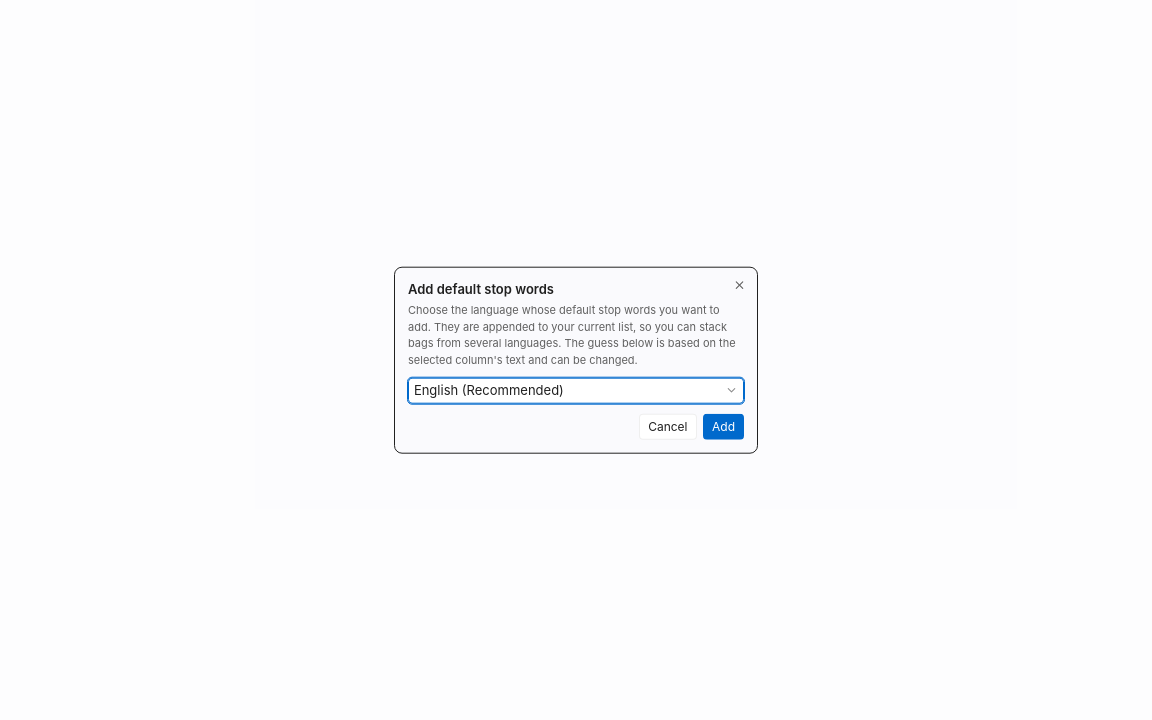
Test: FillDefaultStopWordsDialog › keeps the dialog open and exposes a retryable load failure
This screenshot has width=1152, height=720.
Click the button "Add" at (724, 426), box [703,413,744,439]
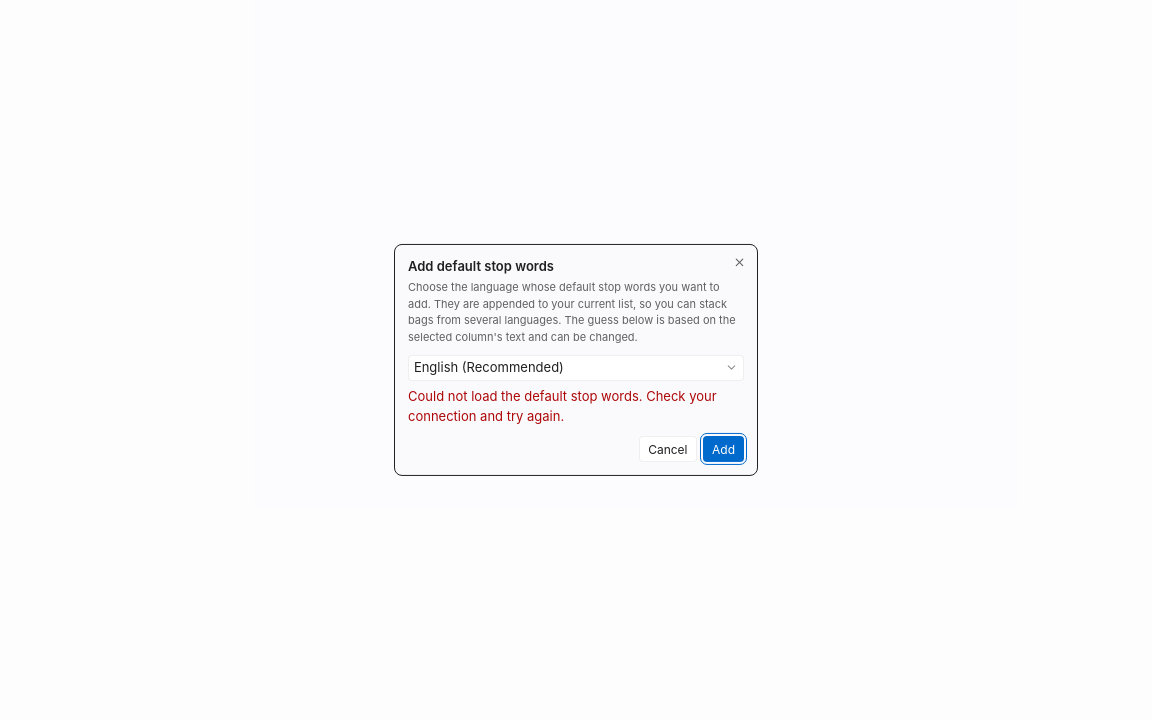
Check: the message shows "Could not load the default stop words", box [408,388,717,424]
